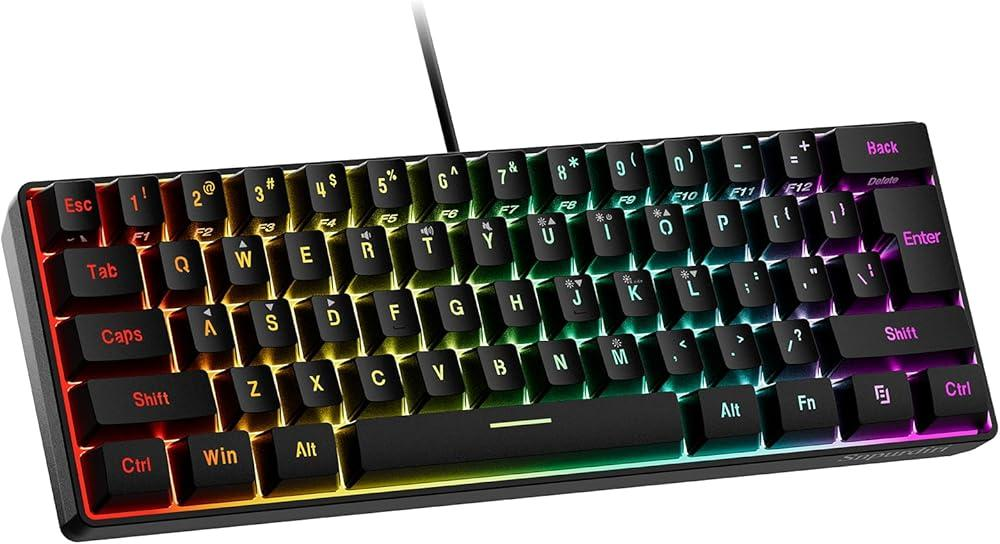keyboard: (3, 119, 1000, 544)
